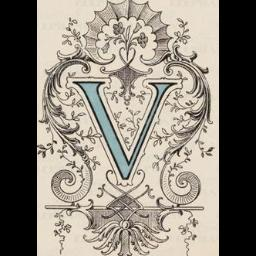v: (64, 72, 186, 194)
